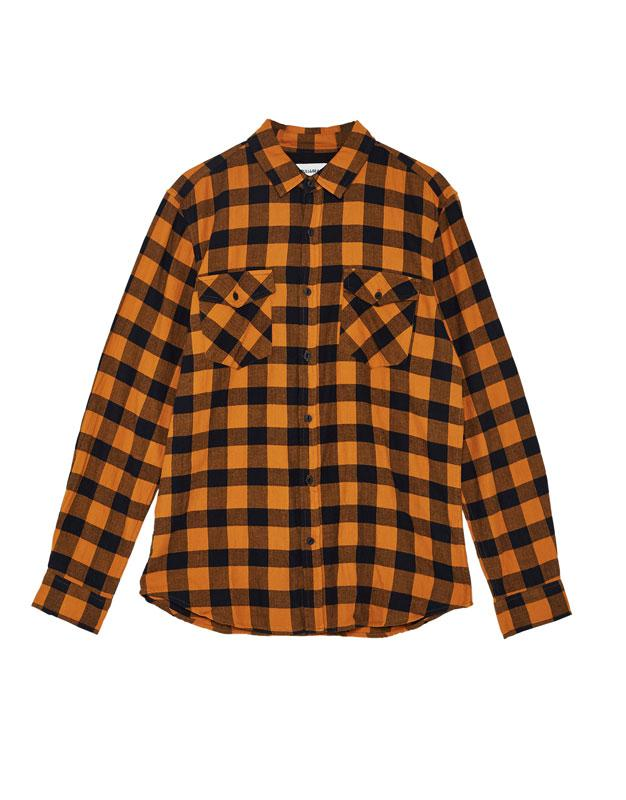teeshirt: (42, 112, 583, 664)
